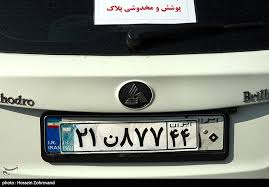car: (39, 113, 228, 159)
